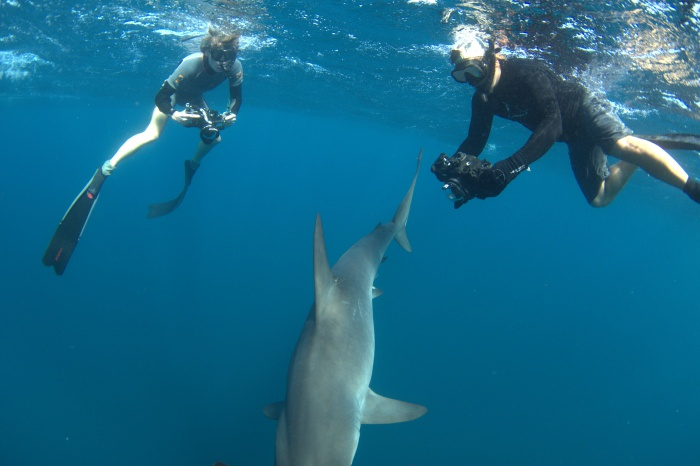Hammer: (261, 181, 452, 466)
